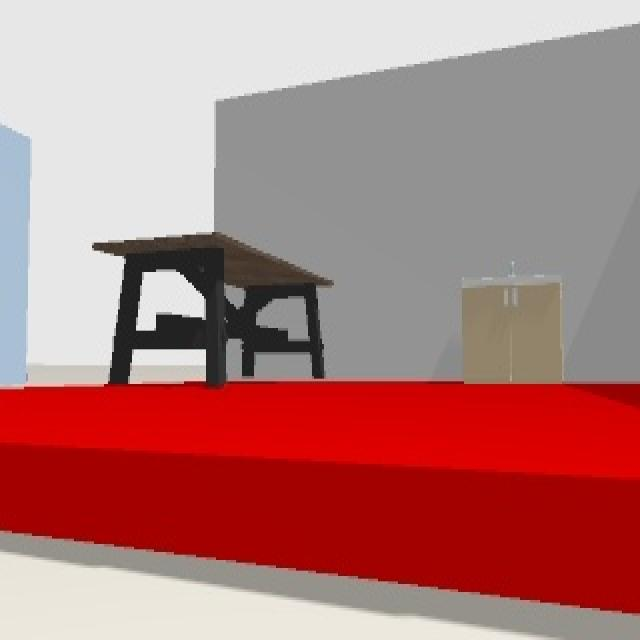dining: (95, 226, 334, 381)
